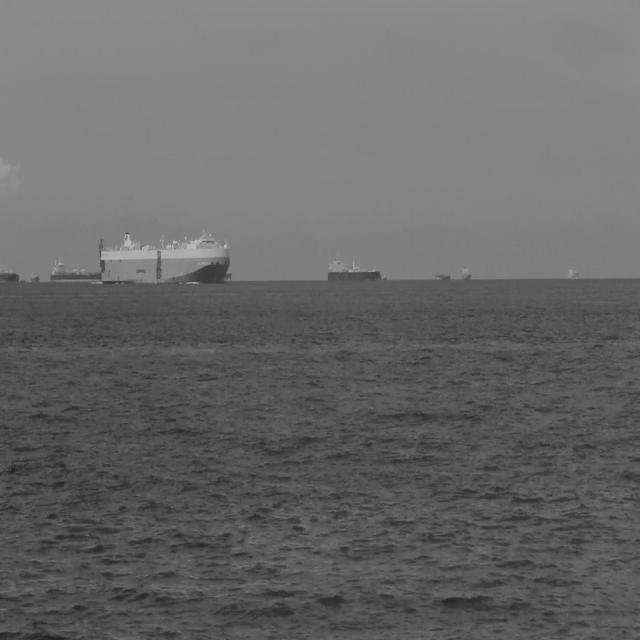ship: (98, 230, 229, 286), (327, 250, 381, 282), (49, 255, 99, 282), (0, 262, 19, 284), (567, 262, 579, 280), (460, 264, 472, 281), (434, 270, 451, 281), (29, 269, 39, 286), (224, 269, 232, 282), (19, 278, 27, 287), (382, 272, 387, 280)
